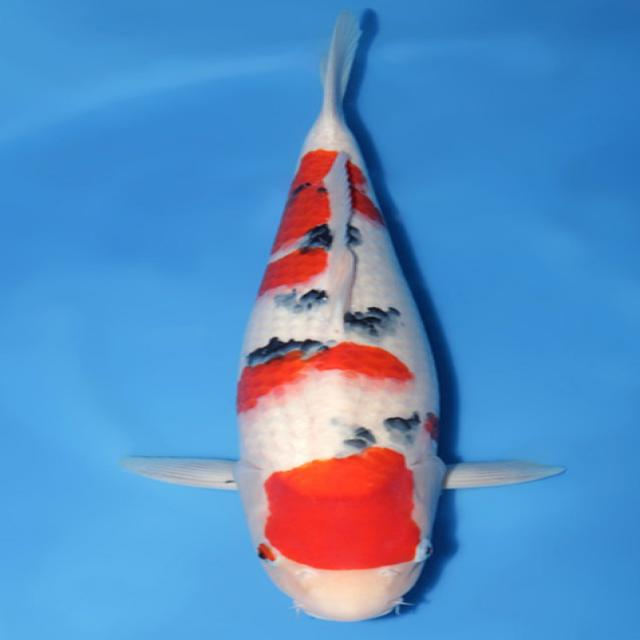Sanke: (119, 8, 565, 623)
